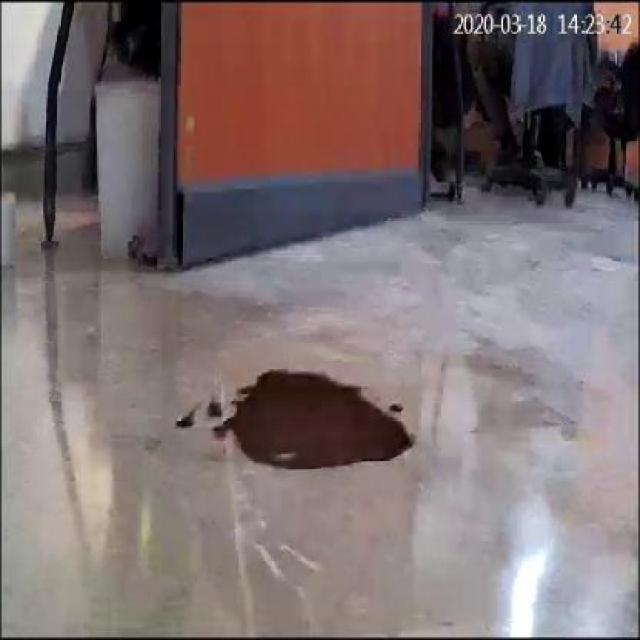spill: (230, 368, 415, 472)
